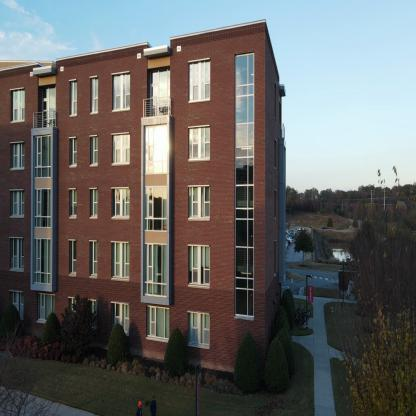Wolf Ridge: (0, 21, 316, 375)
